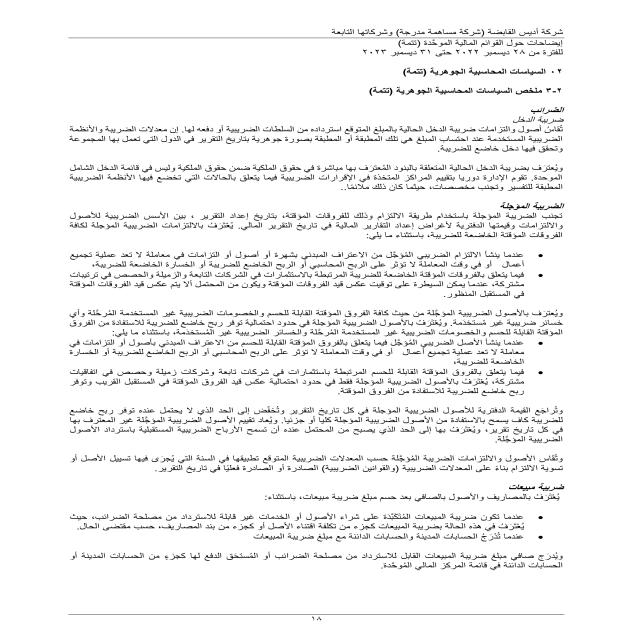notes: (385, 39, 567, 50)
text: (22, 98, 605, 582)
